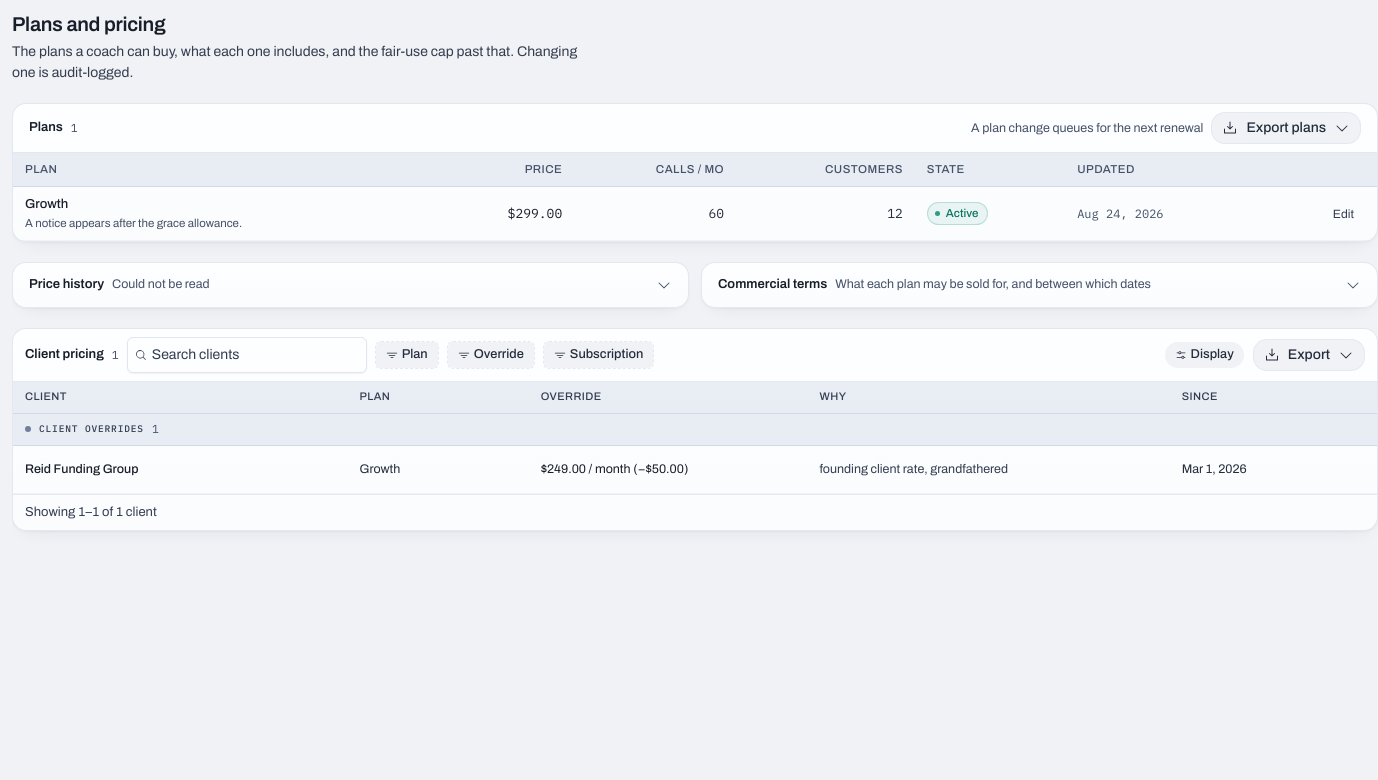
AdminMoneyTiers › says pricing history could not be read rather than drawing an empty history
The image size is (1378, 780).
Click the text "Price history". click: (66, 285)
box: top-left (29, 275), bottom-right (104, 294)
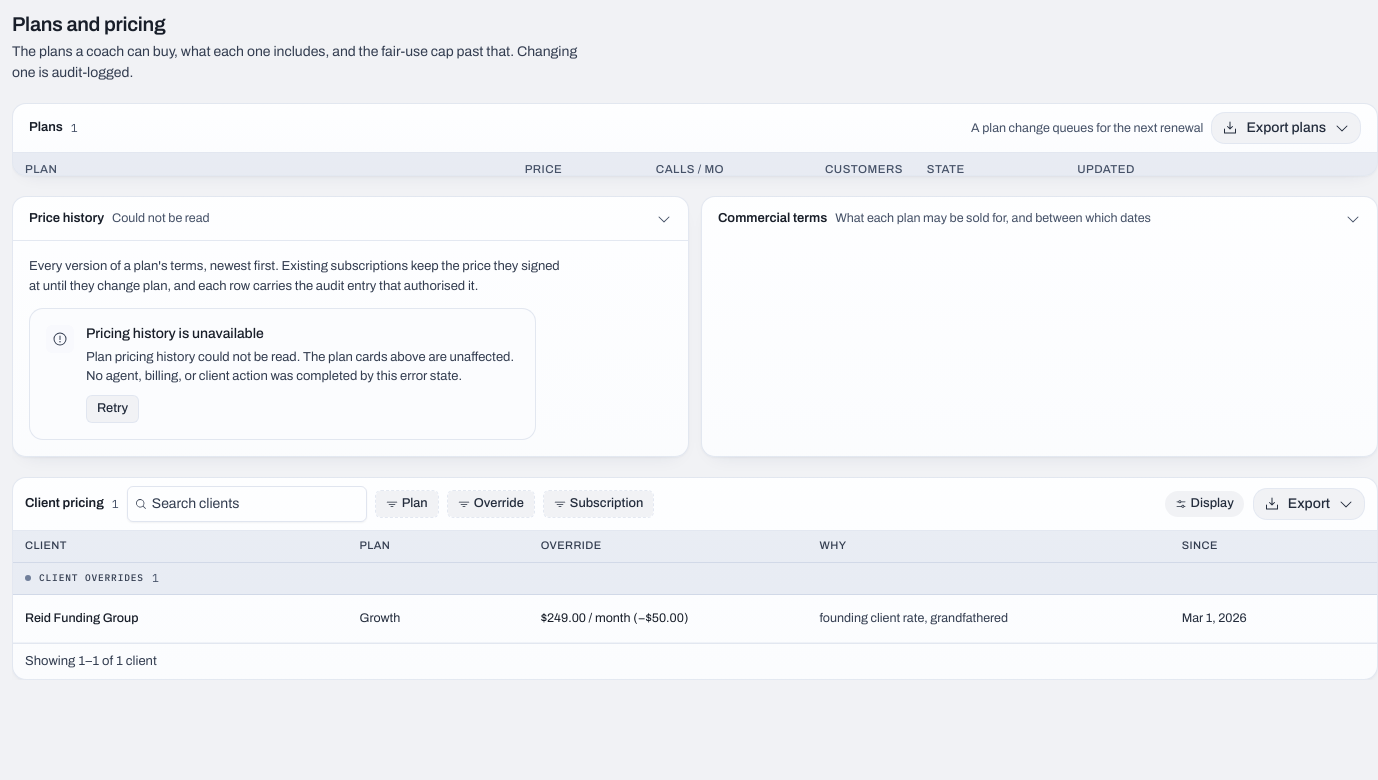
Expected: the element that starts with "Price history" shows "Could not be read", top-left (112, 211), bottom-right (210, 225)
Expected: the heading "Pricing history is unavailable" is shown, top-left (86, 326), bottom-right (264, 341)
